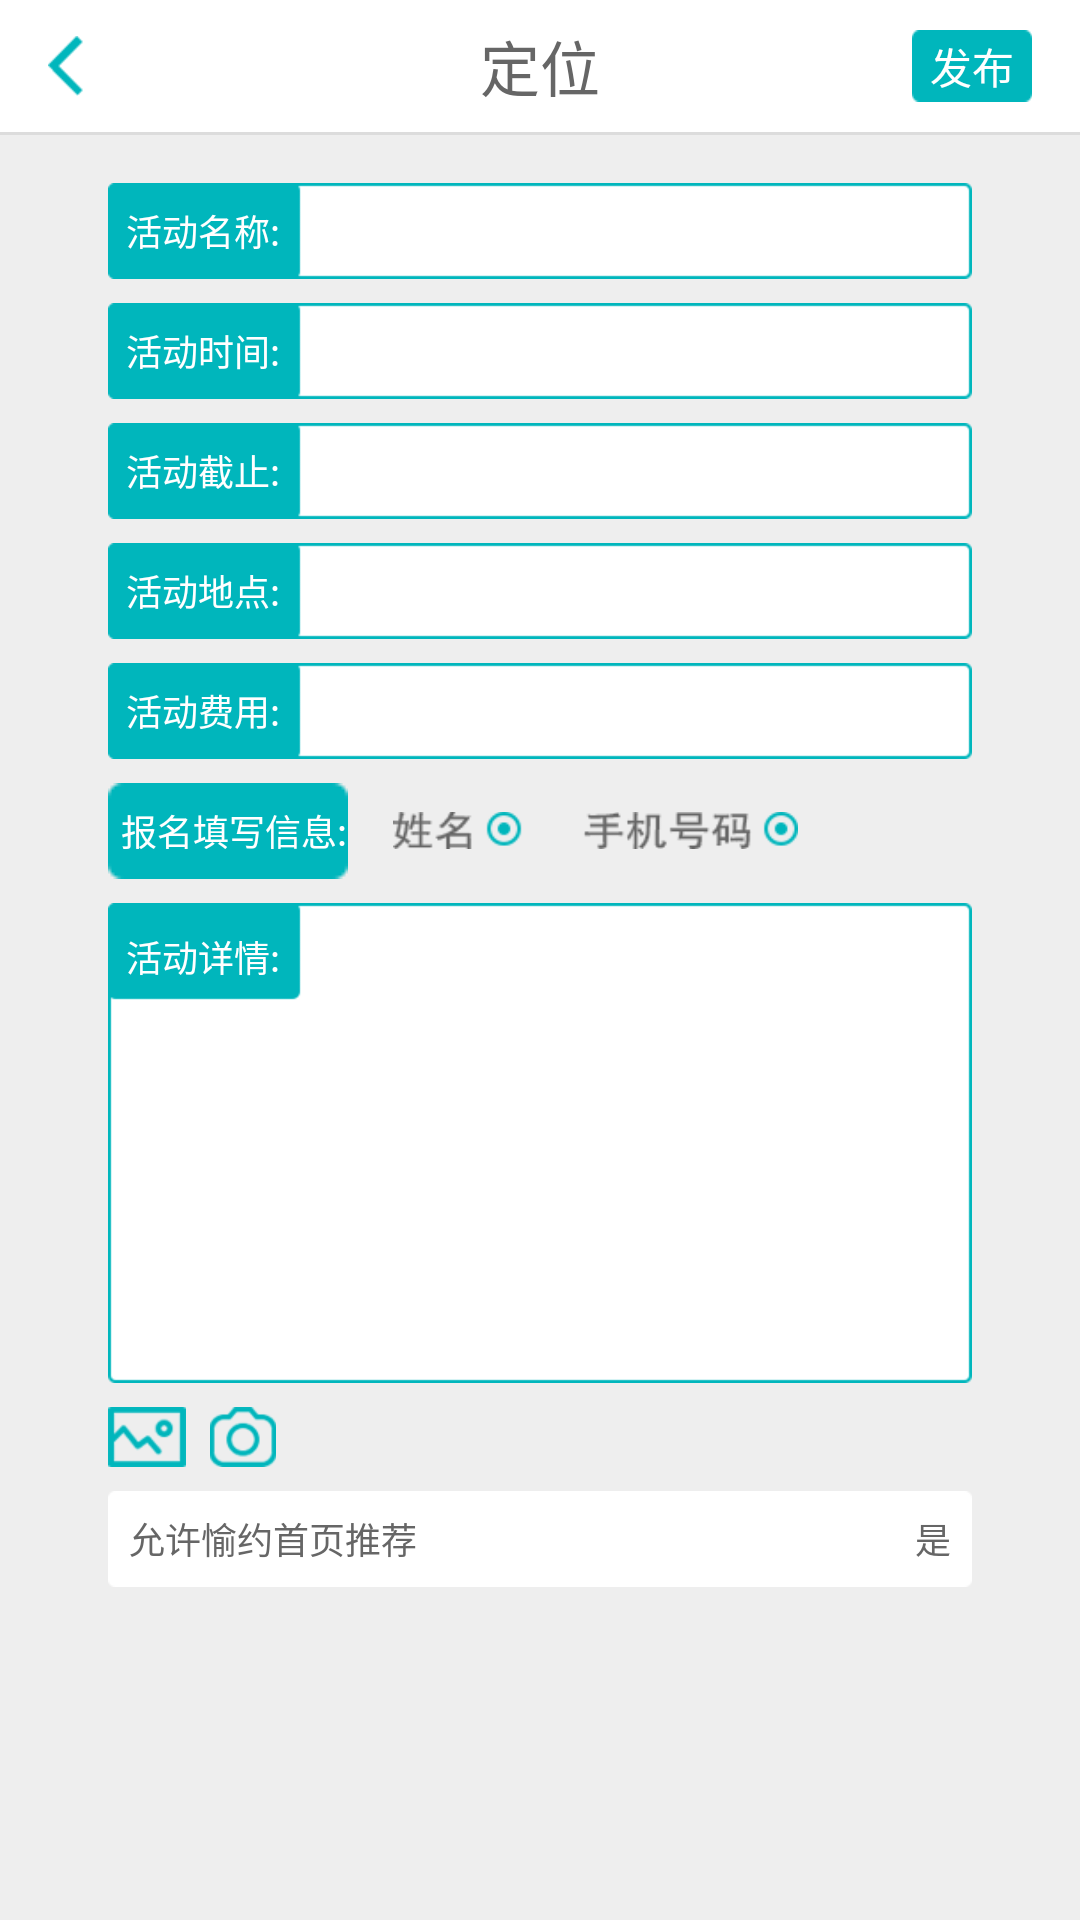

Icons on this 1080w x 1920h Android screen, each with the point to tap as point (x, y):
location back: point (65, 66)
